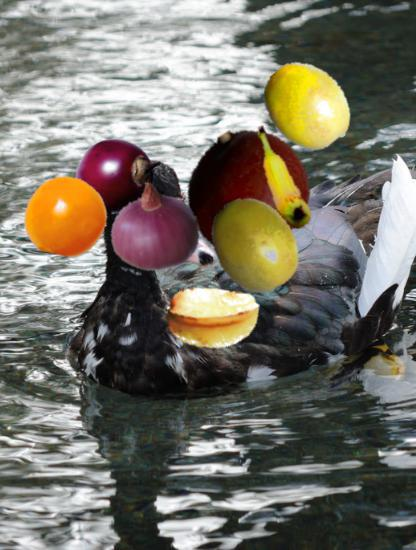Banana: (225, 122, 337, 234)
Carambula: (166, 272, 260, 366)
Maracuja: (206, 196, 305, 295), (260, 60, 354, 154)
Nectarine: (183, 126, 310, 253)
Onion: (104, 181, 206, 283)
Physalis: (24, 174, 109, 259)
Tamarillo: (75, 135, 159, 219)
